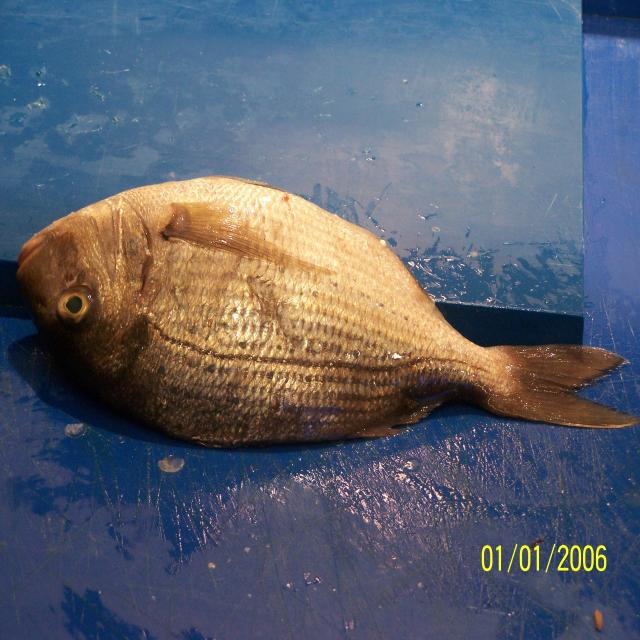Red-Sea-Bream-mercan-: (14, 176, 637, 451)
